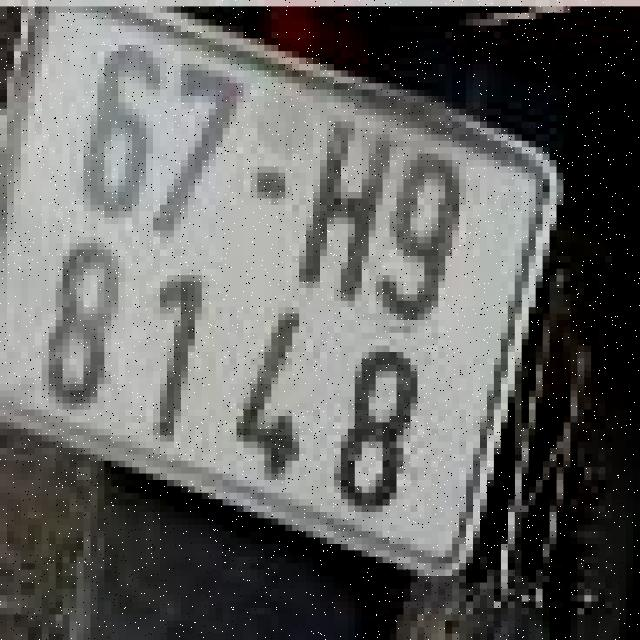1: (153, 263, 209, 442)
4: (226, 301, 324, 486)
6: (73, 42, 157, 220)
7: (156, 54, 247, 240)
8: (330, 342, 428, 528), (38, 234, 122, 406)
9: (379, 134, 470, 320)
H: (285, 116, 390, 294)
